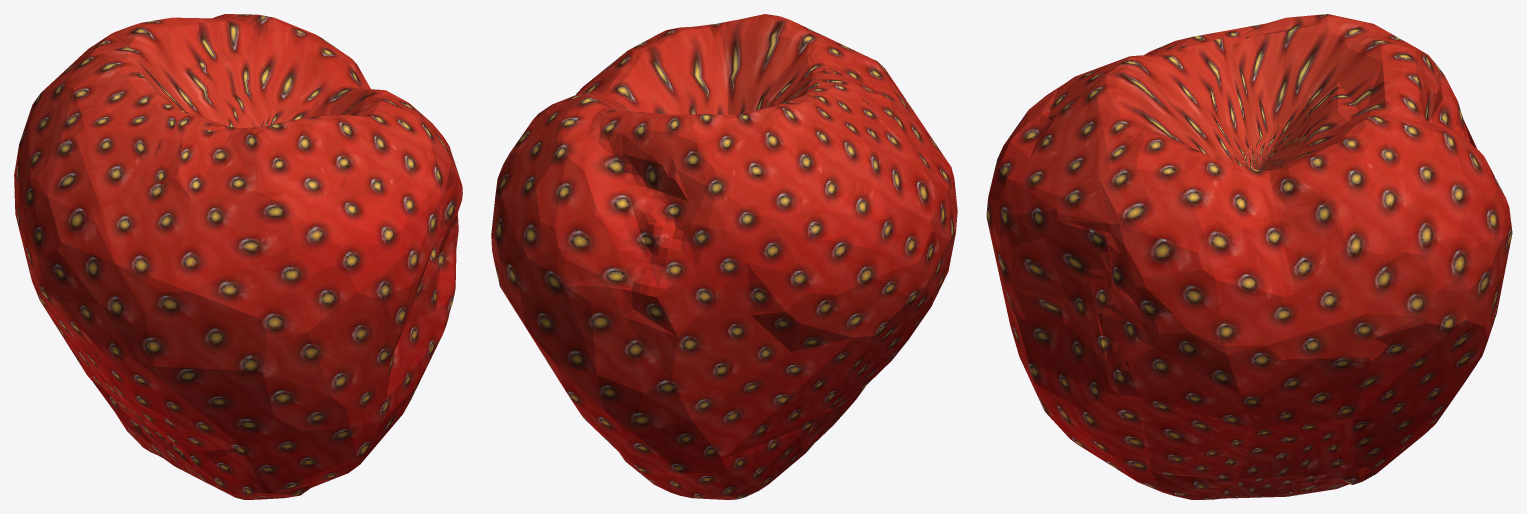
3 views of the same model, side by side, from view 1: azimuth 30°, elevation 25°; view 2: azimuth 150°, elevation 25°; view 3: azimuth 270°, elevation 25° (orthographic). The views are drawn at different scales.
Visible parts, largest first — view 1: _003_Meshed; view 2: _003_Meshed; view 3: _003_Meshed.
Part boxes in pixels (x1,y1,x2,y2): _003_Meshed: [14, 14, 462, 499]; _003_Meshed: [491, 14, 957, 499]; _003_Meshed: [986, 14, 1512, 499].
Size of the model in its own units: 0.0971 by 0.1082 by 0.0983.
Materials: 1 (1 with a texture image).
